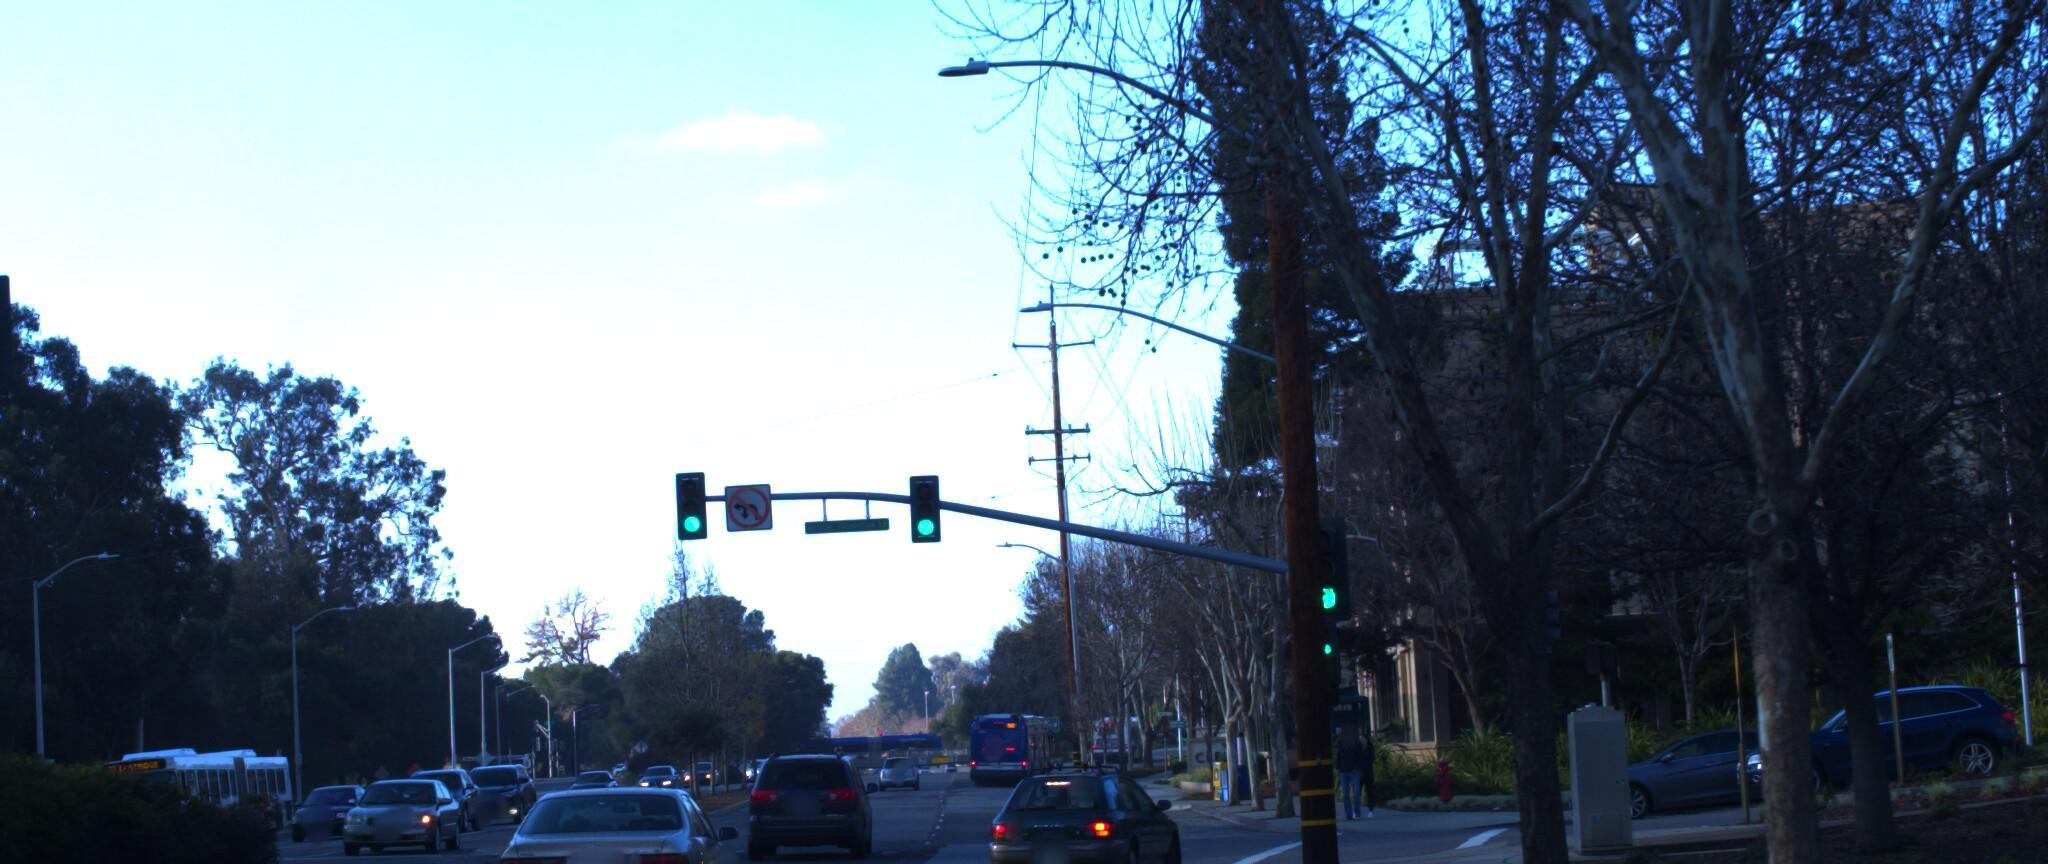car: (1707, 666, 2027, 794), (1546, 703, 1847, 810), (475, 760, 761, 864), (984, 743, 1204, 864), (738, 737, 872, 850), (334, 760, 475, 846)
